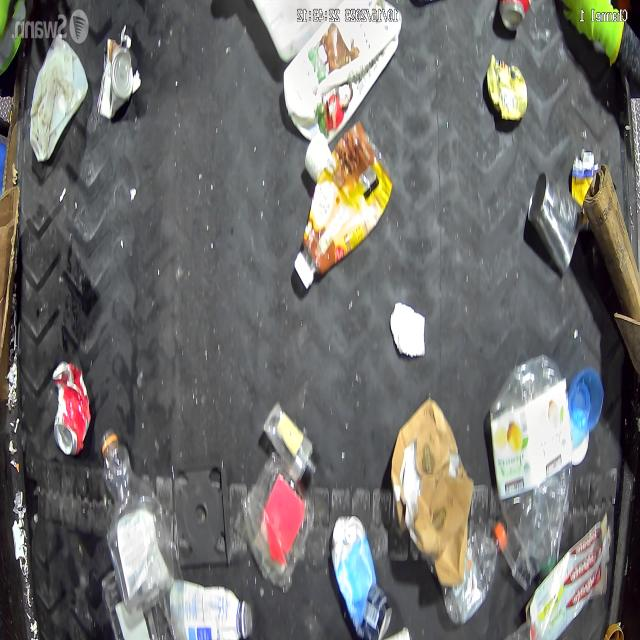can: (528, 174, 583, 273), (52, 362, 92, 459), (97, 39, 133, 119), (486, 54, 528, 122), (498, 1, 530, 32)
milk_jug: (29, 36, 88, 162)
non_white_jug: (283, 0, 402, 144)
plastic_bottle: (486, 354, 574, 581), (100, 426, 176, 617), (442, 518, 506, 627)
